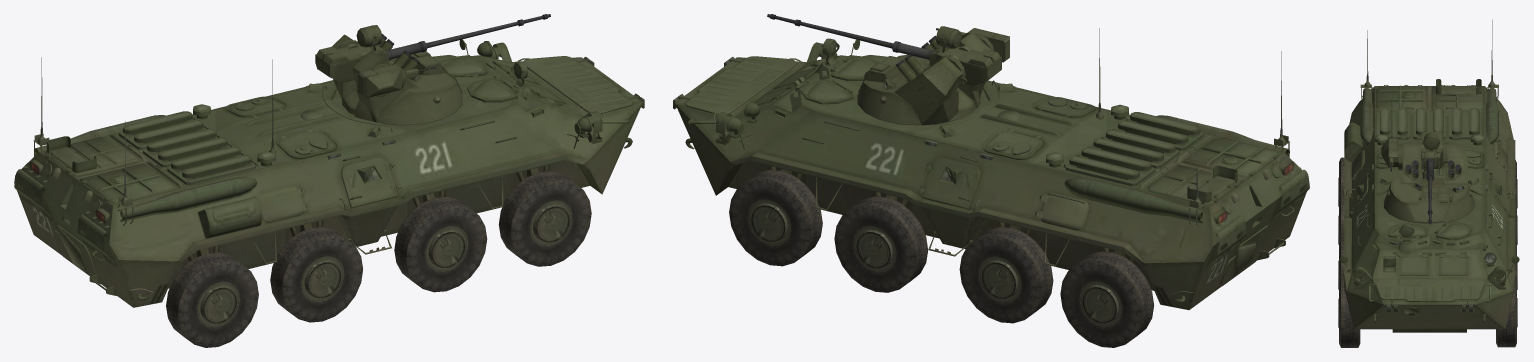
The model's file is btr-80ak.glb.
3 views of the same model, side by side, from view 1: azimuth 30°, elevation 25°; view 2: azimuth 150°, elevation 25°; view 3: azimuth 270°, elevation 25° (orthographic). The views are drawn at different scales.
Parts seen in each view (by area): view 1: hull, hull2, hull4, turret, tire7, tire3, tire, tire5, hull3, mount, hatch3, wheel5 (+11 smaller); view 2: hull, hull2, hull4, turret, tire4, tire8, tire2, tire6, hull3, mount, hatch4, wheel4 (+10 smaller); view 3: hull, turret, hull4, hull2, hull3, mount, tire, tire2, hatch7, hatch8, hatch2, hatch (+11 smaller).
Part boxes in pixels (box(x1,y1,x2,y2)): hull: box(14, 55, 642, 307); hull2: box(14, 115, 257, 276); hull4: box(89, 83, 392, 300); turret: box(332, 34, 462, 125); tire7: box(166, 252, 258, 347); tire3: box(394, 196, 487, 292); tire: box(498, 171, 591, 266); tire5: box(270, 227, 362, 322); hull3: box(459, 39, 644, 148); mount: box(315, 41, 427, 97); hatch3: box(341, 157, 397, 208); wheel5: box(301, 256, 343, 301); hull: box(675, 55, 1306, 309); hull2: box(1064, 115, 1309, 286); hull4: box(939, 80, 1285, 302); turret: box(857, 32, 993, 125); tire4: box(834, 196, 928, 292); tire8: box(1060, 251, 1154, 347); tire2: box(729, 170, 822, 266); tire6: box(959, 227, 1053, 323); hull3: box(673, 38, 860, 149); mount: box(892, 28, 1009, 85); hatch4: box(922, 158, 979, 209); wheel4: box(854, 226, 896, 271); hull: box(1343, 86, 1516, 332); turret: box(1384, 143, 1474, 223); hull4: box(1344, 107, 1507, 188); hull2: box(1360, 79, 1498, 144); hull3: box(1340, 224, 1519, 323); mount: box(1381, 130, 1443, 180); tire: box(1339, 278, 1360, 347); tire2: box(1496, 278, 1516, 347); hatch7: box(1393, 252, 1429, 275); hatch8: box(1438, 252, 1468, 275); hatch2: box(1435, 221, 1472, 239); hatch: box(1388, 223, 1427, 238).
Bounding box in the file's own units: 7.7 × 3.24 × 2.91.
6 materials, 6 textured.
